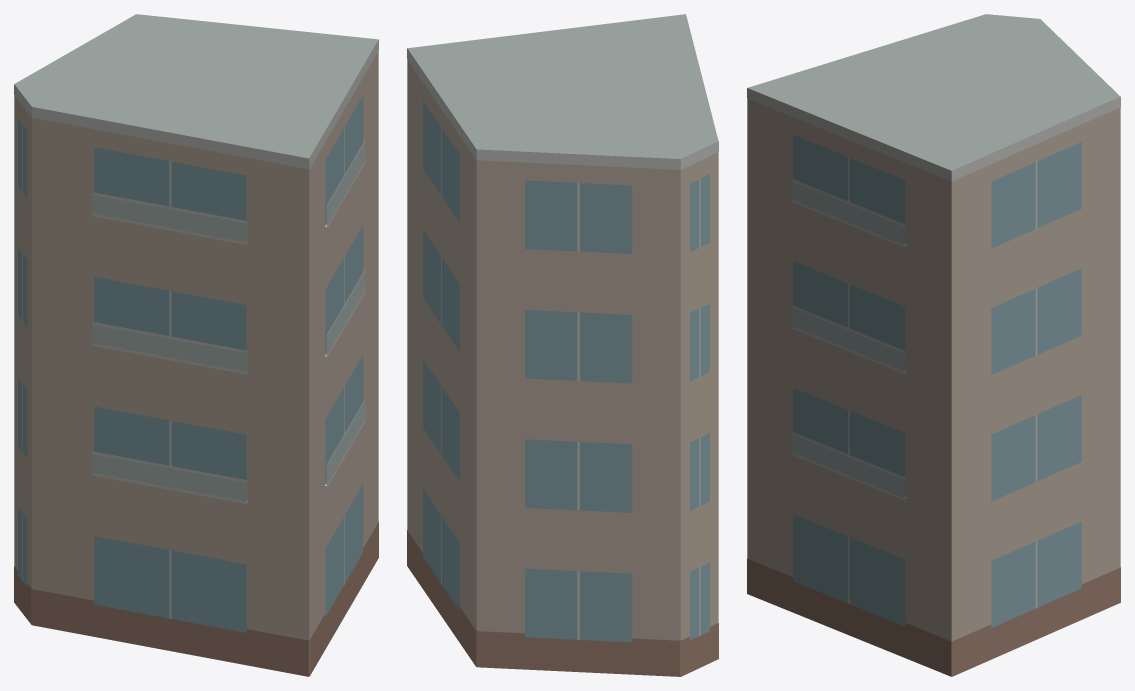
File: survey-upis-32505694.glb
The picture shows the model from 3 angles, left to right: view 1: azimuth 30°, elevation 25°; view 2: azimuth 150°, elevation 25°; view 3: azimuth 270°, elevation 25°; orthographic projection. The views are drawn at different scales.
Parts seen in each view (by area): view 1: survey-upis-32505694.tmp; view 2: survey-upis-32505694.tmp; view 3: survey-upis-32505694.tmp.
Boxes of the visible parts, left/top/right/bottom form: survey-upis-32505694.tmp: left=14, top=14, right=378, bottom=676; survey-upis-32505694.tmp: left=407, top=14, right=718, bottom=676; survey-upis-32505694.tmp: left=747, top=14, right=1120, bottom=676.
Bounding box in the file's own units: 7.79 × 11.7 × 7.84.
